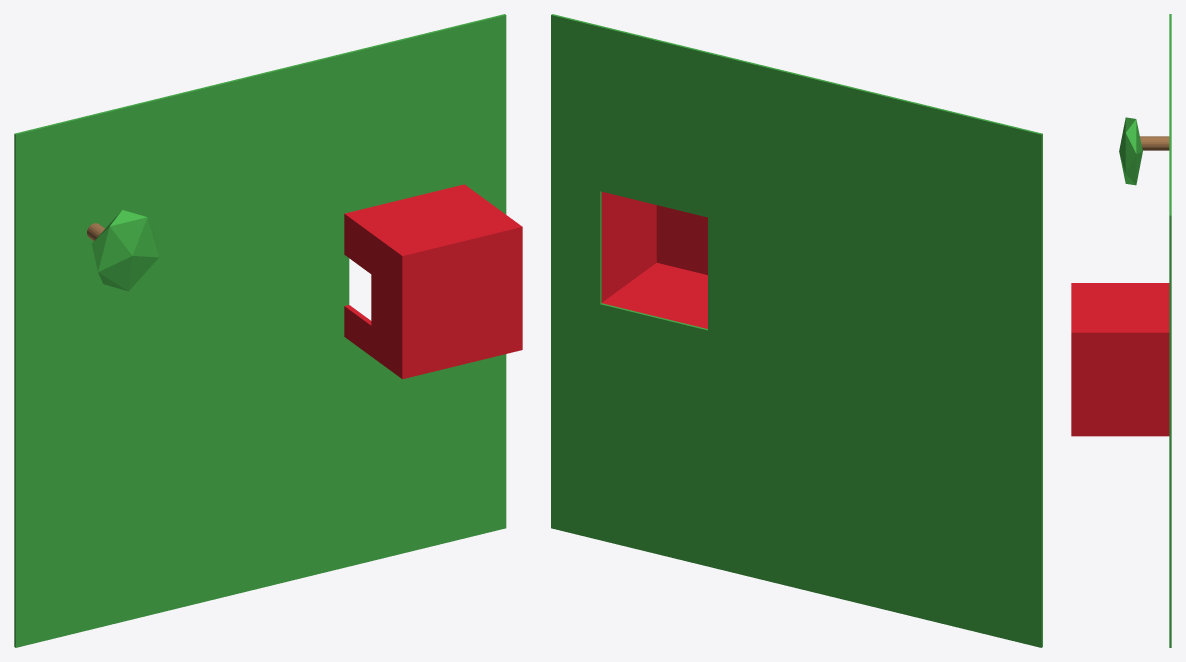
File: tinker.obj
3 renders of one model, left to right at view 1: azimuth 30°, elevation 25°; view 2: azimuth 150°, elevation 25°; view 3: azimuth 270°, elevation 25°, orthographic. The views are drawn at different scales.
Visible parts, largest first — view 1: group_0_4634441, group_0_15277357; view 2: group_0_4634441, group_0_15277357; view 3: group_0_15277357, group_0_4634441, group_0_11107152.
Boxes of the visible parts, box(x1,y1,x2,y2) form: group_0_4634441: box(14, 14, 506, 647); group_0_15277357: box(344, 184, 522, 379); group_0_4634441: box(551, 14, 1042, 647); group_0_15277357: box(601, 192, 707, 328); group_0_15277357: box(1071, 283, 1169, 436); group_0_4634441: box(1119, 14, 1171, 647); group_0_11107152: box(1140, 136, 1169, 150).
Bounding box in the file's own units: 200 × 200 × 42.
